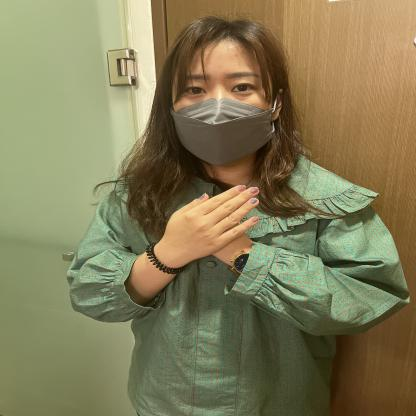Grieve: (108, 185, 392, 294)
